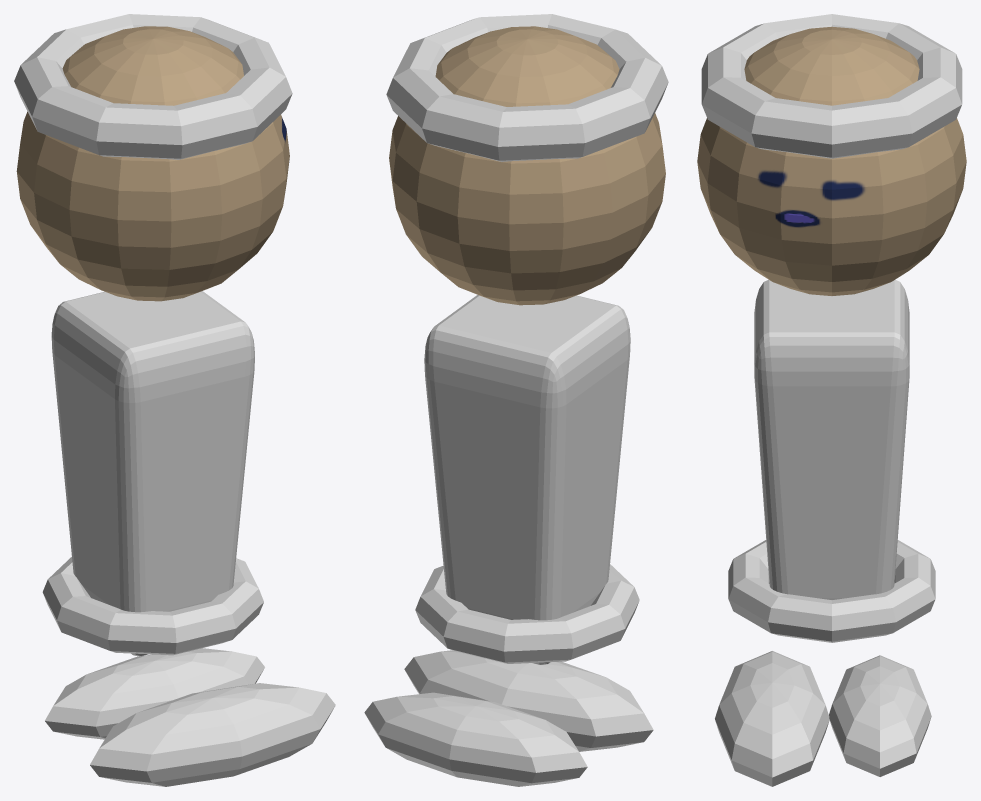
The model's file is ten.fbx.
3 renders of one model, left to right at view 1: azimuth 30°, elevation 25°; view 2: azimuth 150°, elevation 25°; view 3: azimuth 270°, elevation 25°, orthographic. The views are drawn at different scales.
Parts seen in each view (by area): view 1: Cube, Head, Torus, RFoot, Torus.001, LFoot; view 2: Cube, Head, Torus, LFoot, RFoot, Torus.001; view 3: Cube, Head, Torus, RFoot, Torus.001, LFoot.
Boxes of the visible parts, x1,y1,x2,y2 form: Cube: [51, 291, 254, 656]; Head: [16, 26, 289, 301]; Torus: [14, 14, 292, 159]; RFoot: [90, 683, 335, 786]; Torus.001: [42, 557, 263, 655]; LFoot: [45, 648, 264, 739]; Cube: [424, 295, 630, 664]; Head: [389, 26, 665, 305]; Torus: [386, 14, 668, 161]; LFoot: [364, 692, 587, 786]; RFoot: [404, 650, 653, 751]; Torus.001: [415, 564, 639, 663]; Cube: [754, 279, 909, 599]; Head: [697, 26, 966, 295]; Torus: [701, 14, 962, 158]; RFoot: [715, 651, 829, 786]; Torus.001: [728, 540, 935, 642]; LFoot: [829, 655, 931, 776].
Bounding box in the file's own units: 165 × 414 × 144.
